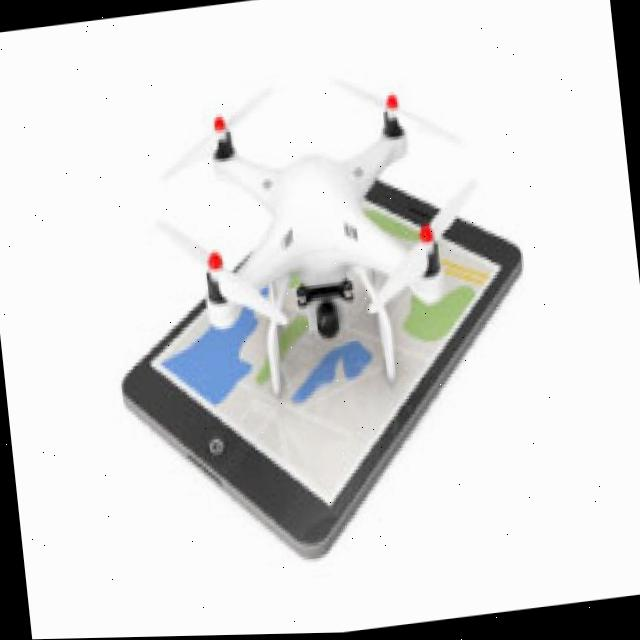drone: (136, 54, 496, 389)
